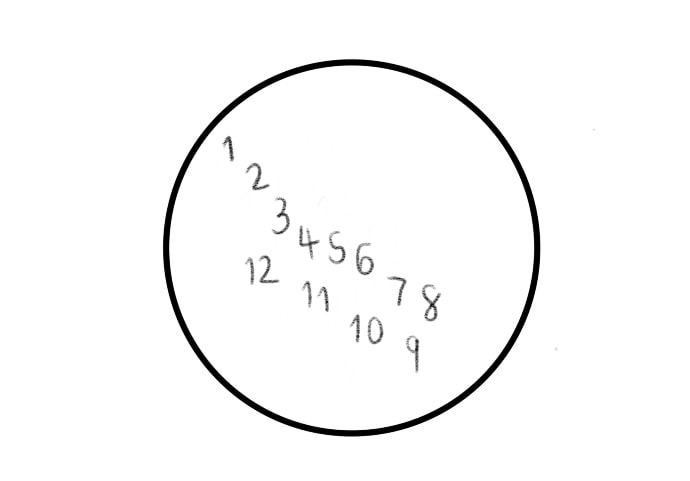eight: (422, 280, 441, 324)
eleven: (303, 279, 332, 313)
five: (327, 228, 347, 268)
four: (298, 224, 319, 261)
nine: (404, 334, 424, 373)
one: (218, 135, 237, 162)
seven: (387, 273, 407, 309)
six: (355, 238, 376, 276)
ten: (349, 310, 385, 346)
three: (270, 193, 291, 235)
twelve: (244, 254, 278, 286)
two: (243, 160, 269, 192)
